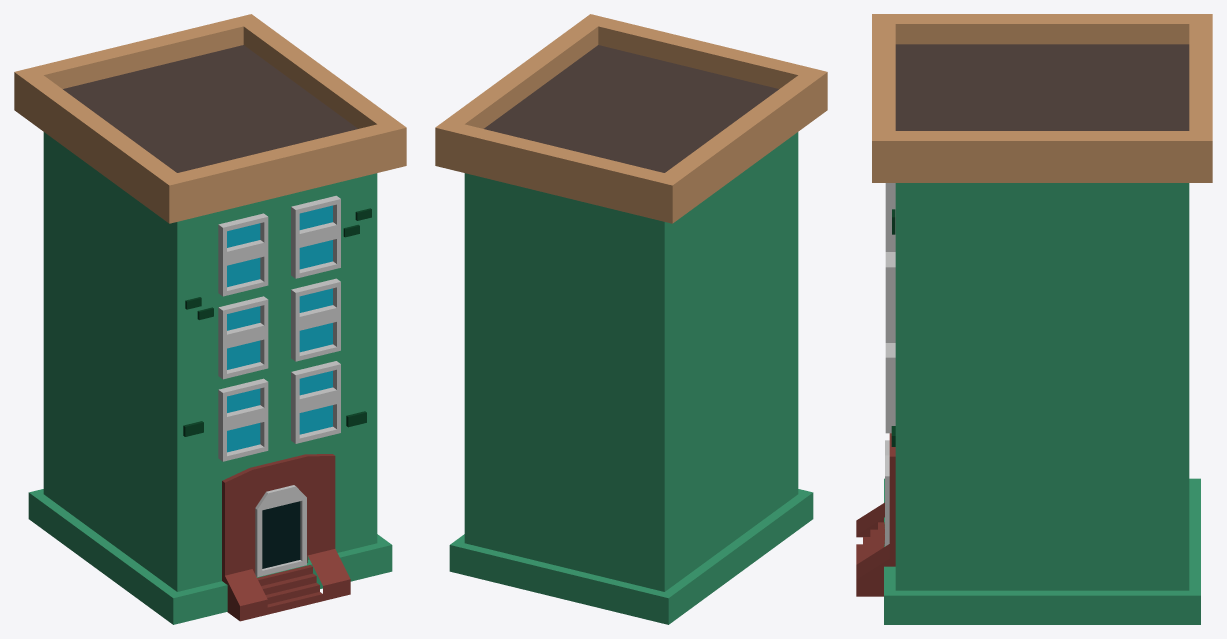
3 views of the same model, side by side, from view 1: azimuth 30°, elevation 25°; view 2: azimuth 150°, elevation 25°; view 3: azimuth 270°, elevation 25° (orthographic). The views are drawn at different scales.
Visible parts, largest first — view 1: Cube.071; view 2: Cube.071; view 3: Cube.071.
Boxes of the visible parts, x1,y1,x2,y2 form: Cube.071: [14, 14, 406, 624]; Cube.071: [435, 14, 827, 624]; Cube.071: [856, 14, 1212, 624].
Size of the model in its own units: 809 by 960 by 1453.
